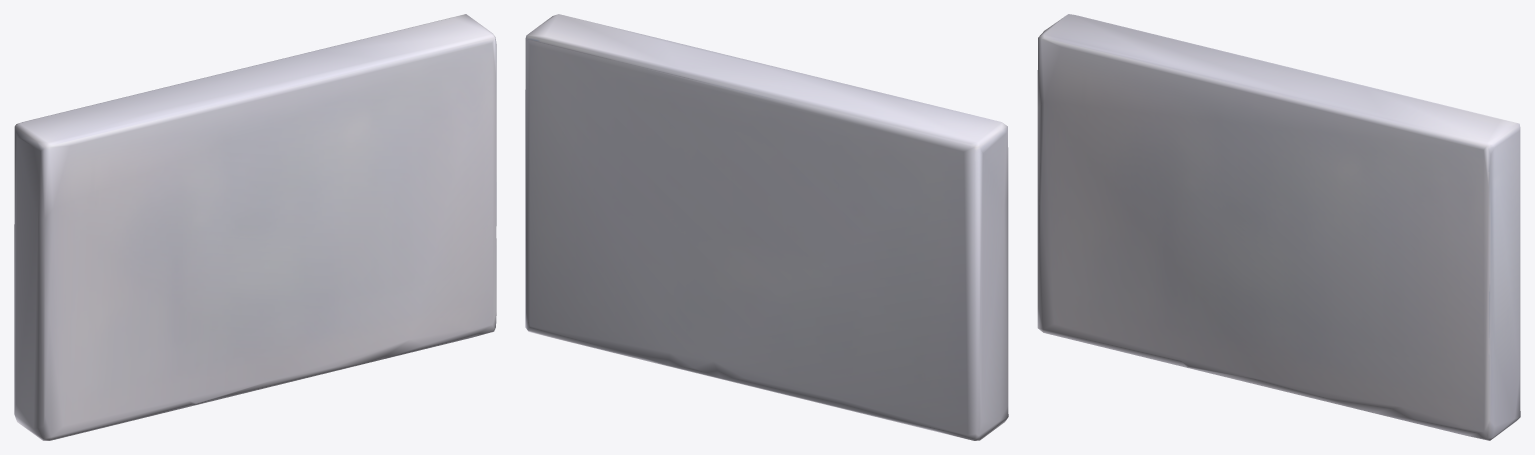
Rendered from white-plaster-wall.glb.
3 views of the same model, side by side, from view 1: azimuth 30°, elevation 25°; view 2: azimuth 150°, elevation 25°; view 3: azimuth 330°, elevation 25° (orthographic).
Visible parts, largest first — view 1: geometry_0.001; view 2: geometry_0.001; view 3: geometry_0.001.
Boxes of the visible parts, left/top/right/bottom form: geometry_0.001: left=14, top=14, right=496, bottom=440; geometry_0.001: left=525, top=14, right=1008, bottom=440; geometry_0.001: left=1037, top=14, right=1520, bottom=440.
Bounding box in the file's own units: 0.9996 × 0.6284 × 0.1238.
1 material, 1 textured.
